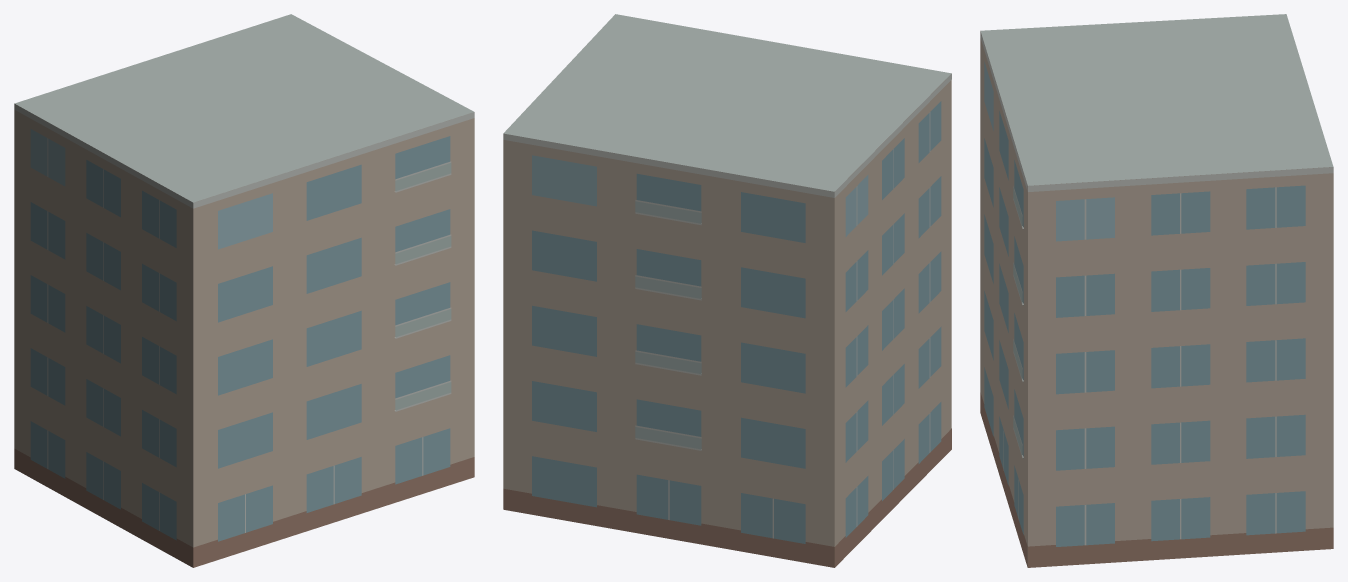
The model's file is survey-upis-32605312.glb.
3 renders of one model, left to right at view 1: azimuth 30°, elevation 25°; view 2: azimuth 150°, elevation 25°; view 3: azimuth 270°, elevation 25°, orthographic. The views are drawn at different scales.
Visible parts, largest first — view 1: survey-upis-32605312.tmp; view 2: survey-upis-32605312.tmp; view 3: survey-upis-32605312.tmp.
Part boxes in pixels (x1,y1,x2,y2): survey-upis-32605312.tmp: [14, 14, 474, 567]; survey-upis-32605312.tmp: [503, 14, 951, 567]; survey-upis-32605312.tmp: [980, 14, 1333, 567].
Size of the model in its own units: 14.19 by 14.7 by 12.32.
